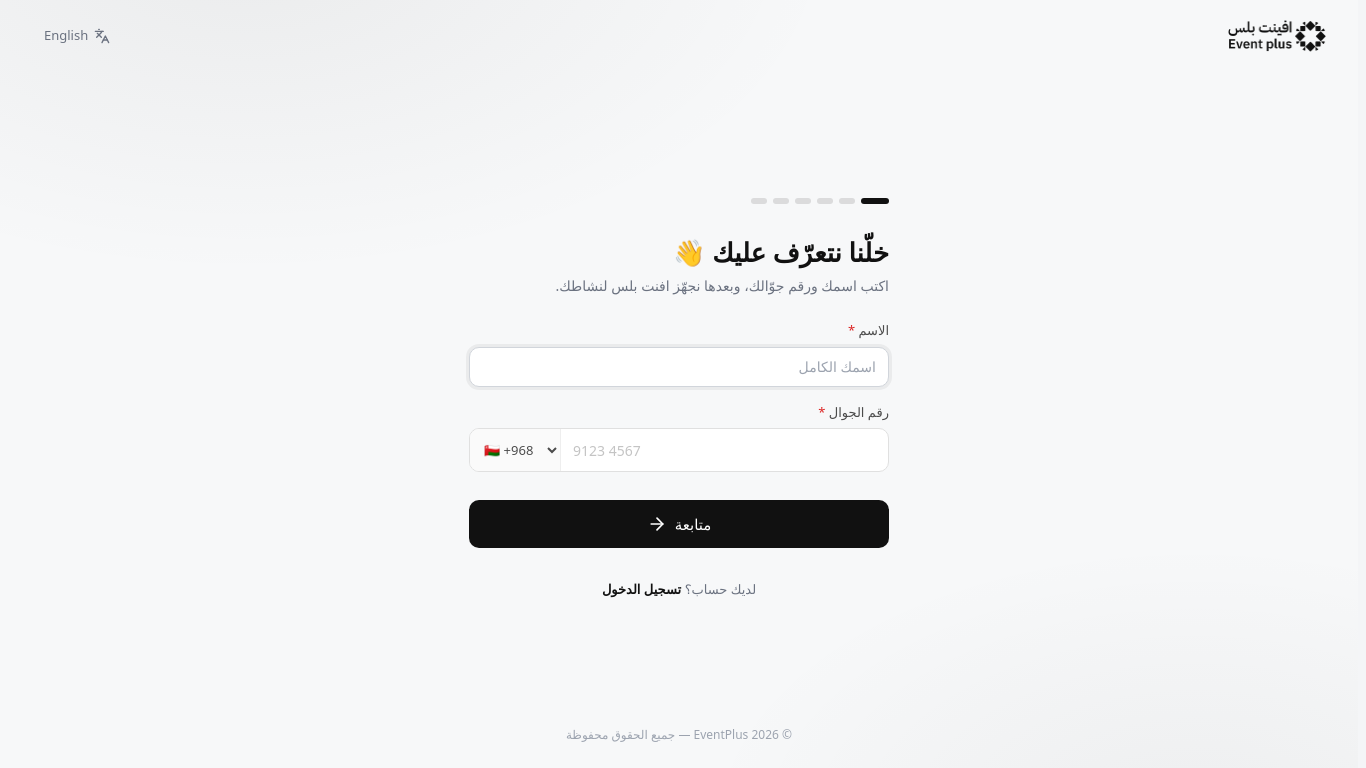
Test case: معالج التسجيل › لا يعرض إلّا الأنشطة التي يعرفها الخادم
This screenshot has width=1366, height=768.
In the field labelled "الاسم *": (679, 367) [469, 347, 889, 387], type "سالم"
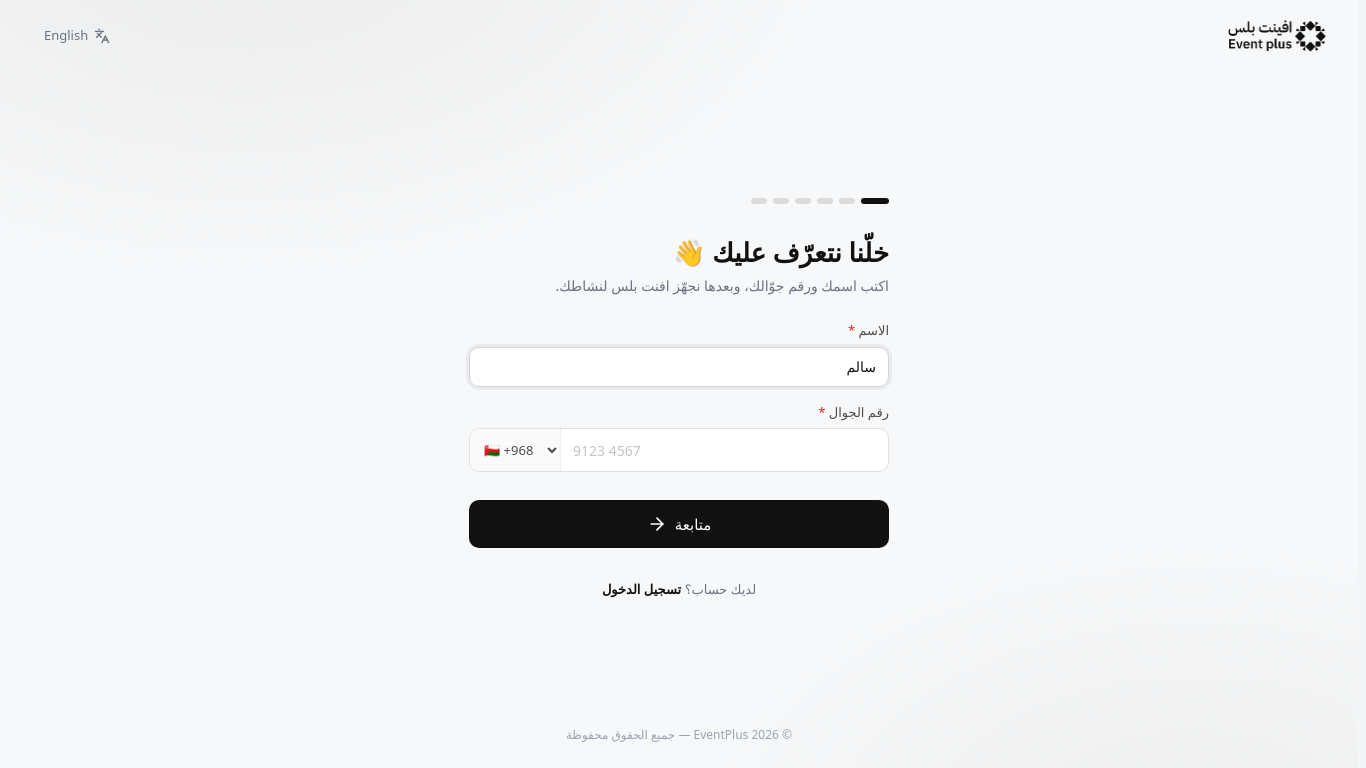
In the field labelled "رقم الجوال *": (724, 450) [561, 429, 888, 471], type "91234567"
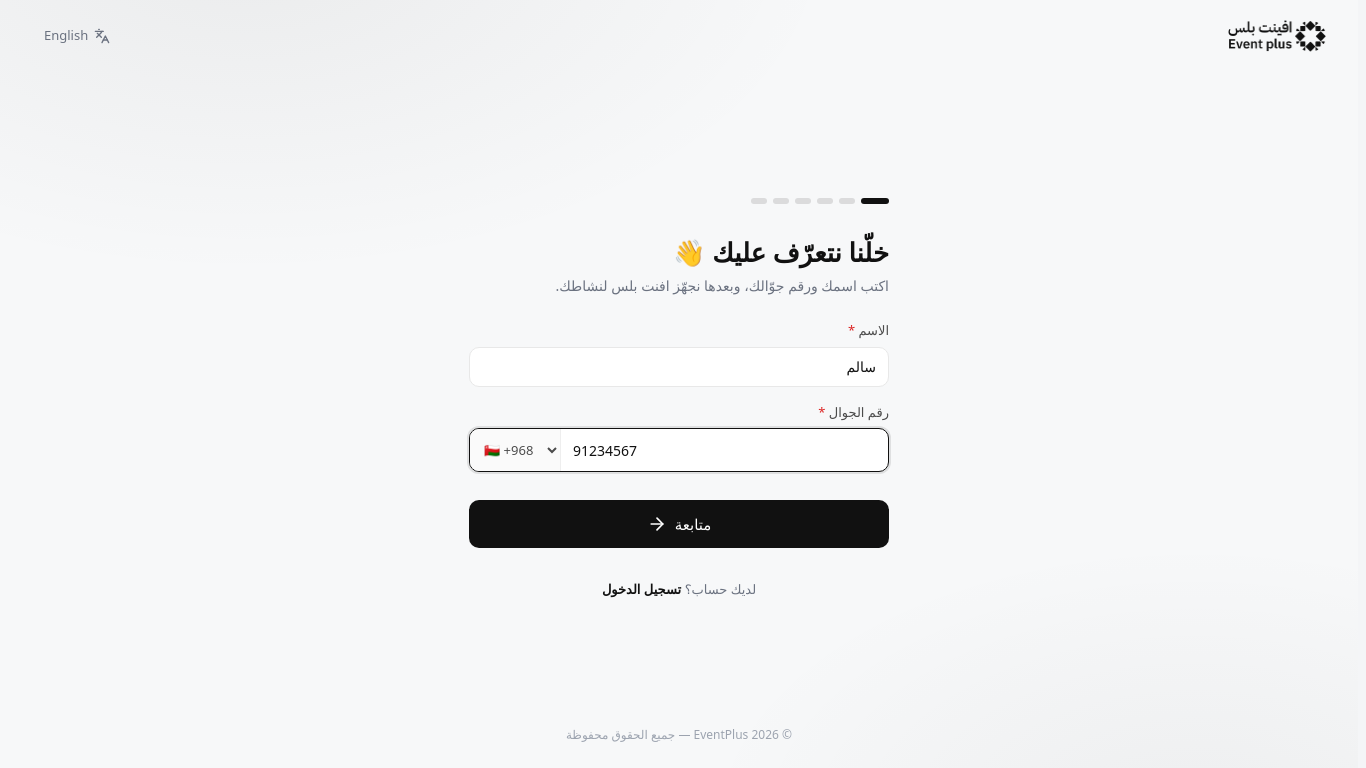
Click the button "متابعة": (679, 524) [469, 500, 889, 548]
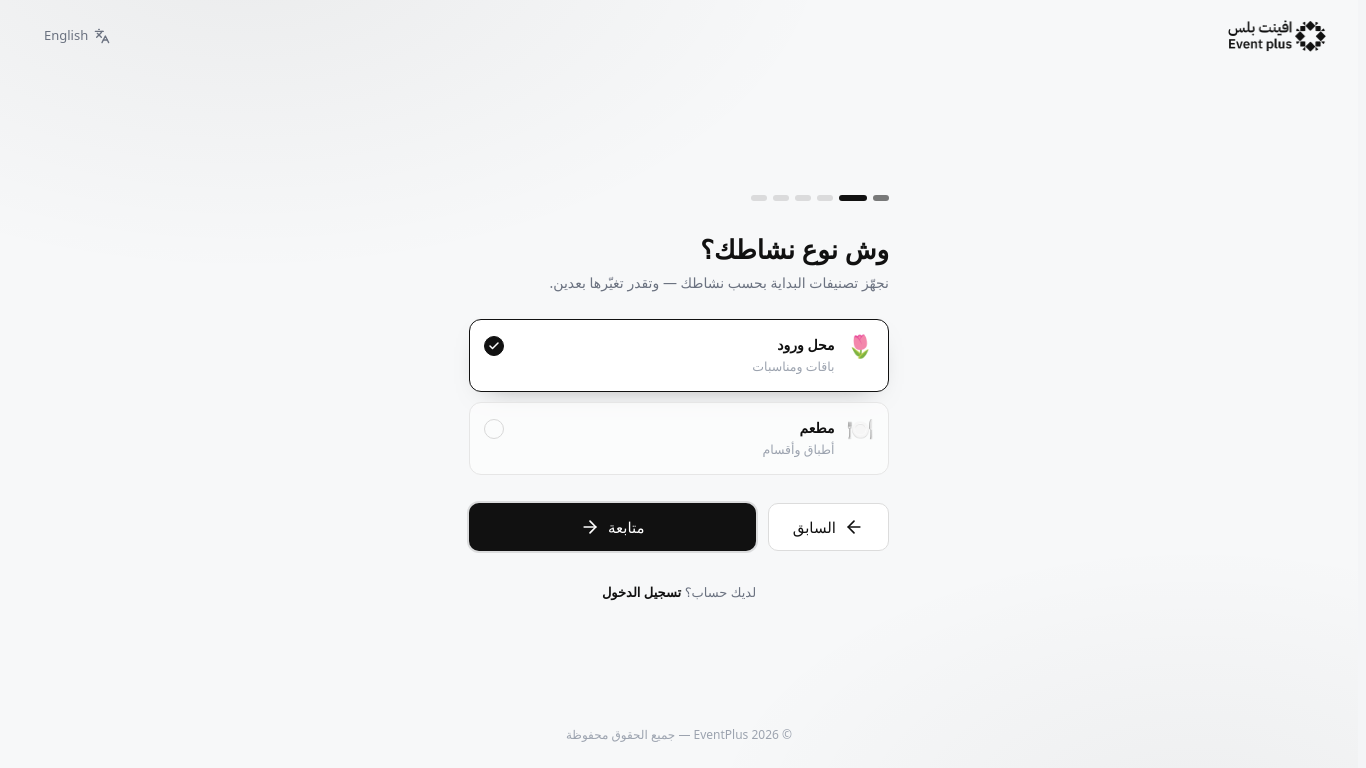
expect the heading "وش نوع نشاطك؟" is shown: met, box [700, 231, 889, 267]
expect the number of radio buttons is 2: met, box [469, 319, 889, 392]; [469, 402, 889, 475]
expect the text "محل ورود" is shown: met, box [777, 335, 835, 354]
